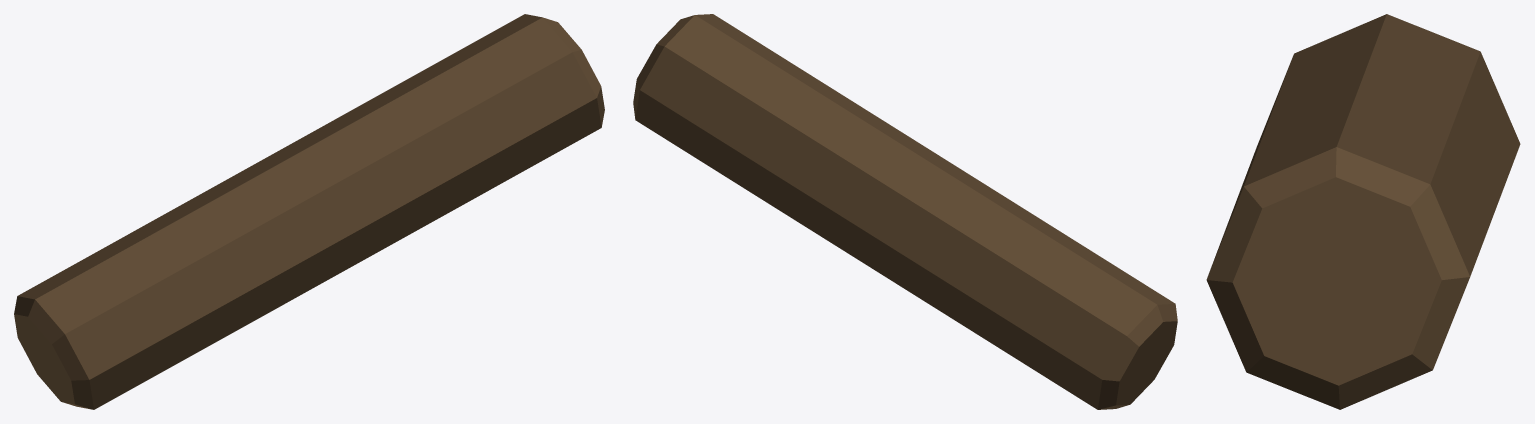
File: Fireplace_Traditional_Log5.FBX
The picture shows the model from 3 angles, left to right: view 1: azimuth 30°, elevation 25°; view 2: azimuth 150°, elevation 25°; view 3: azimuth 270°, elevation 25°; orthographic projection. The views are drawn at different scales.
Visible parts, largest first — view 1: Fireplpace_Traditional_Log5; view 2: Fireplpace_Traditional_Log5; view 3: Fireplpace_Traditional_Log5.
Boxes of the visible parts, bbox=[...] form: Fireplpace_Traditional_Log5: bbox=[14, 14, 604, 409]; Fireplpace_Traditional_Log5: bbox=[633, 14, 1177, 409]; Fireplpace_Traditional_Log5: bbox=[1206, 14, 1520, 409].
Bounding box in the file's own units: 32.72 × 16.46 × 8.53.
Materials: 1 (1 with a texture image).
